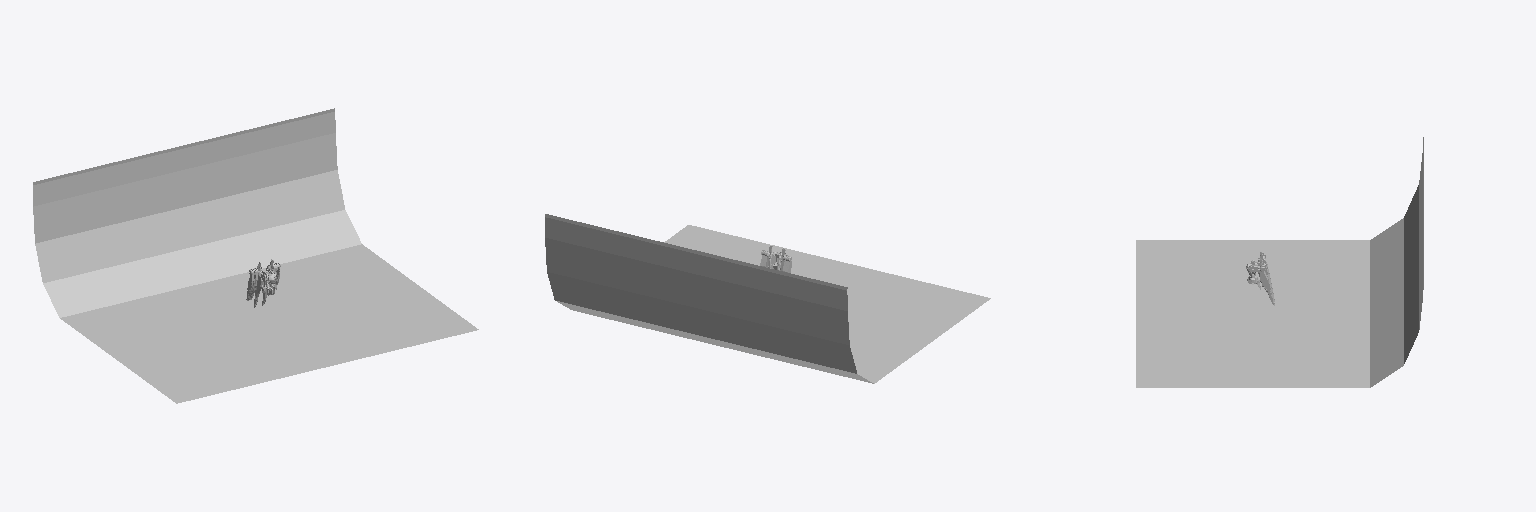
Rendered from RZ-0 body2.obj.
3 views of the same model, side by side, from view 1: azimuth 30°, elevation 25°; view 2: azimuth 150°, elevation 25°; view 3: azimuth 270°, elevation 25° (orthographic).
Visible parts, largest first — view 1: Plane.000_Plane.023; view 2: Plane.000_Plane.023; view 3: Plane.000_Plane.023.
Part boxes in pixels (x1,y1,x2,y2): Plane.000_Plane.023: (33, 108, 478, 403); Plane.000_Plane.023: (545, 214, 990, 383); Plane.000_Plane.023: (1136, 137, 1423, 387).
Size of the model in its own units: 18.67 by 6.85 by 15.39.